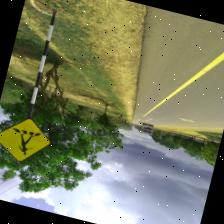yellowboard: (0, 110, 54, 169)
